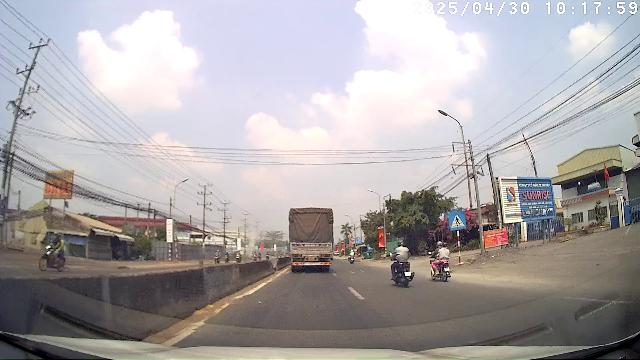423a-duong-nguoi-di-bo-sang-ngang-1: (449, 212, 466, 230)
